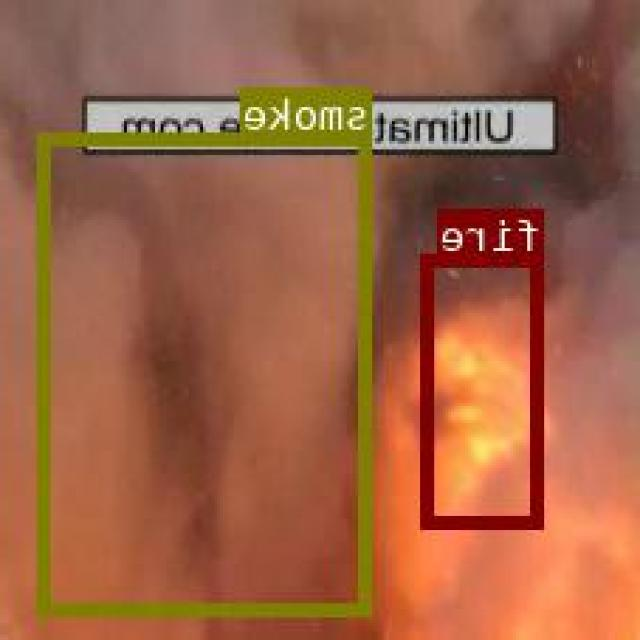fire: (424, 252, 546, 527)
smoke: (42, 130, 374, 614)
